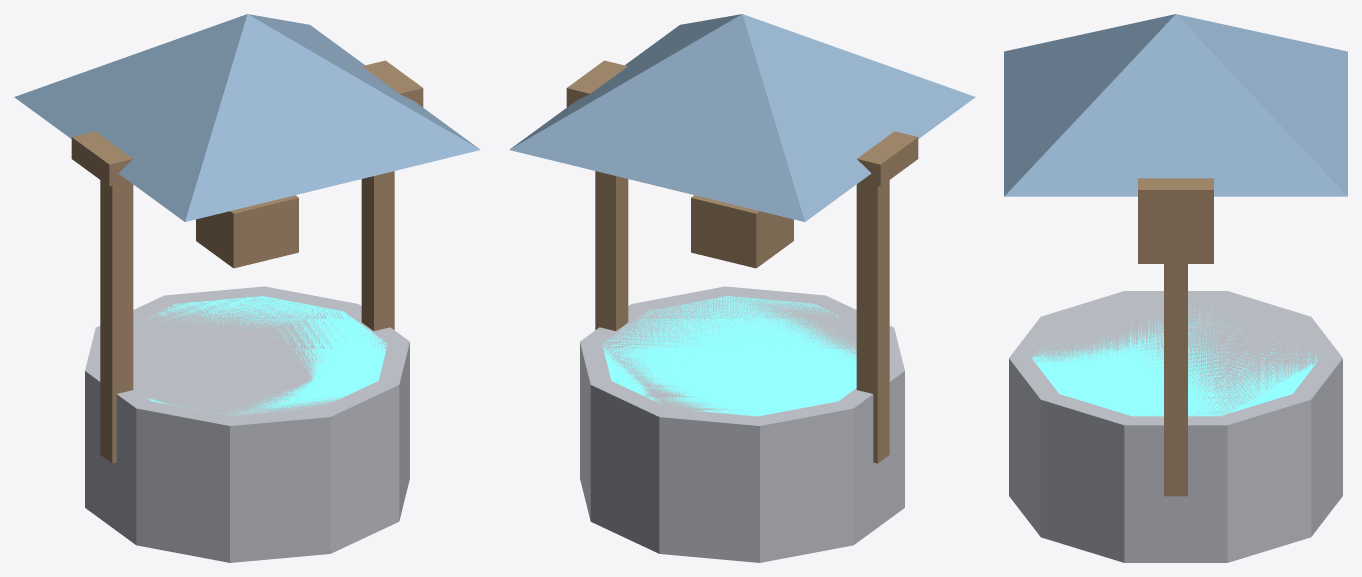
File: gen_well.glb
3 views of the same model, side by side, from view 1: azimuth 30°, elevation 25°; view 2: azimuth 150°, elevation 25°; view 3: azimuth 270°, elevation 25° (orthographic).
Parts seen in each view (by area): view 1: Cylinder, Cone, Cylinder.001, Cube, Cube.003, Cube.001, Cube.002; view 2: Cylinder, Cone, Cylinder.001, Cube, Cube.003, Cube.001, Cube.002; view 3: Cylinder, Cone, Cylinder.001, Cube.001, Cube.003, Cube.002.
Boxes of the visible parts, <box> form: Cylinder: <box>85,286,409,562</box>; Cone: <box>14,14,480,221</box>; Cylinder.001: <box>140,296,387,415</box>; Cube: <box>100,180,133,463</box>; Cube.003: <box>196,195,298,268</box>; Cube.001: <box>361,171,394,331</box>; Cube.002: <box>71,60,423,186</box>; Cylinder: <box>580,286,904,562</box>; Cone: <box>509,14,975,221</box>; Cylinder.001: <box>602,296,856,416</box>; Cube: <box>856,180,889,463</box>; Cube.003: <box>691,195,793,268</box>; Cube.001: <box>595,171,628,331</box>; Cube.002: <box>566,60,918,186</box>; Cylinder: <box>1009,291,1342,562</box>; Cone: <box>1004,14,1347,196</box>; Cylinder.001: <box>1032,301,1317,416</box>; Cube.001: <box>1164,212,1187,496</box>; Cube.003: <box>1138,212,1213,263</box>; Cube.002: <box>1138,178,1213,212</box>.
Bounding box in the file's own units: 2.4 × 3.5 × 2.26.
